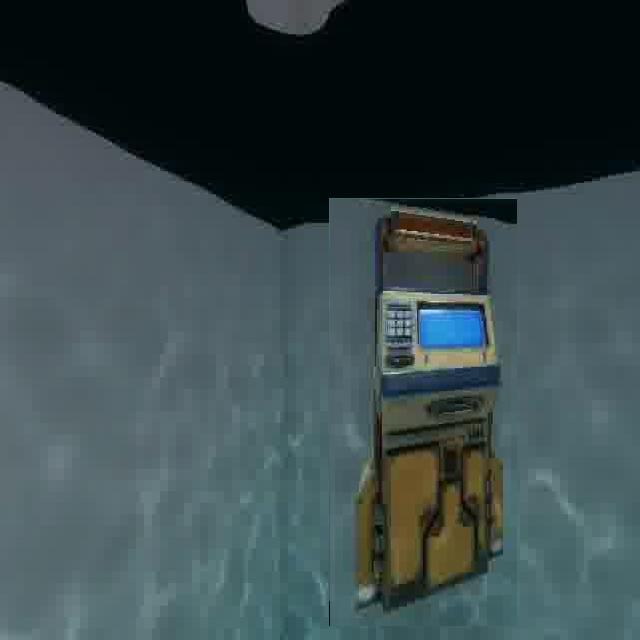Control Panel: (329, 198, 517, 626)
